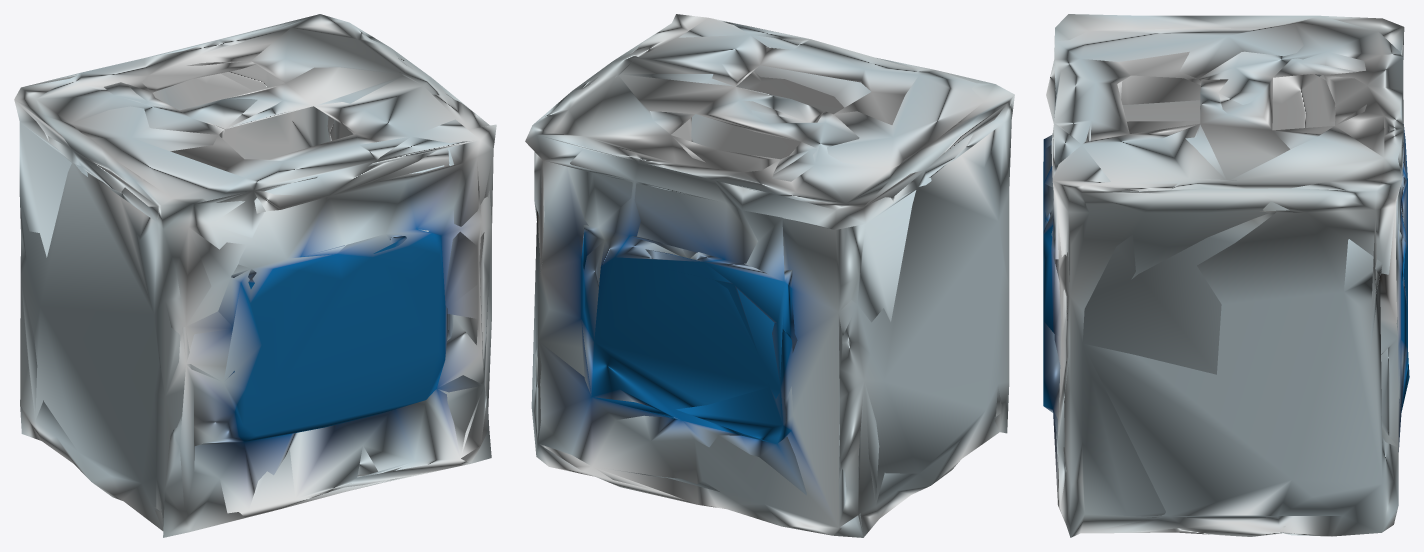
Rendered from gen3d-ballot-box-lod0.glb.
3 views of the same model, side by side, from view 1: azimuth 30°, elevation 25°; view 2: azimuth 150°, elevation 25°; view 3: azimuth 270°, elevation 25° (orthographic). The views are drawn at different scales.
Parts seen in each view (by area): view 1: part_0; view 2: part_0; view 3: part_0.
Part boxes in pixels (x1,y1,x2,y2): part_0: (14,14,496,537); part_0: (525,14,1014,537); part_0: (1043,14,1409,537).
Size of the model in its own units: 1.04 by 0.9999 by 0.9258.
